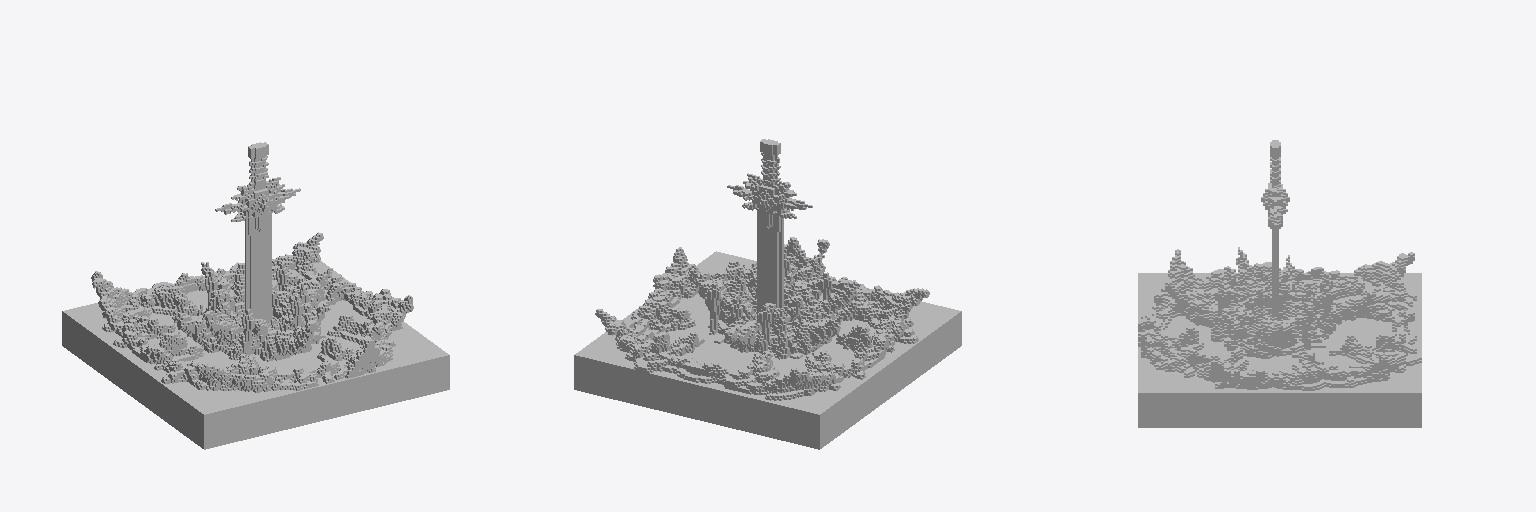
File: Map (32).obj
3 views of the same model, side by side, from view 1: azimuth 30°, elevation 25°; view 2: azimuth 150°, elevation 25°; view 3: azimuth 270°, elevation 25° (orthographic).
Parts seen in each view (by area): view 1: ALL MAP!!!!!!!!!!!-29; view 2: ALL MAP!!!!!!!!!!!-29; view 3: ALL MAP!!!!!!!!!!!-29.
Boxes of the visible parts, <box> form: ALL MAP!!!!!!!!!!!-29: <box>62,142,449,449</box>; ALL MAP!!!!!!!!!!!-29: <box>574,139,961,449</box>; ALL MAP!!!!!!!!!!!-29: <box>1138,140,1421,427</box>.
Bounding box in the file's own units: 125 × 109 × 125.